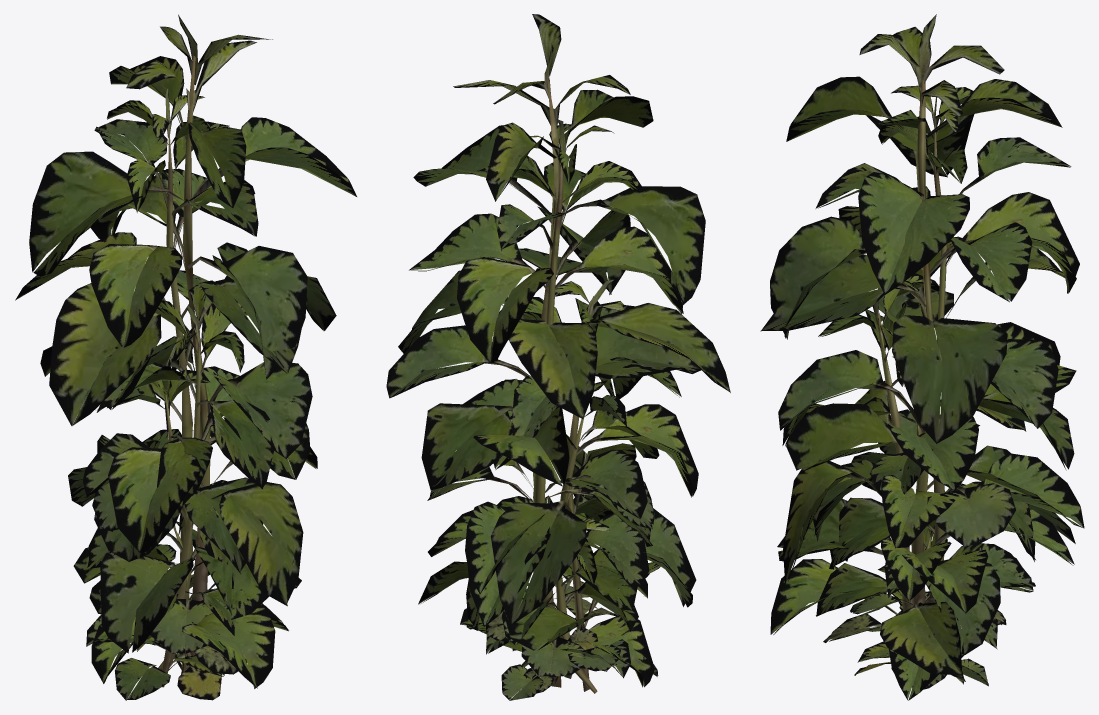
The model's file is nettle_plant.glb.
The picture shows the model from 3 angles, left to right: view 1: azimuth 30°, elevation 25°; view 2: azimuth 150°, elevation 25°; view 3: azimuth 270°, elevation 25°; orthographic projection. The views are drawn at different scales.
Visible parts, largest first — view 1: nettle_plant_medium_a_LOD0; view 2: nettle_plant_medium_a_LOD0; view 3: nettle_plant_medium_a_LOD0.
Boxes of the visible parts, left/top/right/bottom form: nettle_plant_medium_a_LOD0: left=15, top=14, right=356, bottom=700; nettle_plant_medium_a_LOD0: left=386, top=14, right=730, bottom=700; nettle_plant_medium_a_LOD0: left=760, top=14, right=1084, bottom=700.
Bounding box in the file's own units: 0.1034 × 0.2166 × 0.0952.
1 material, 1 textured.
